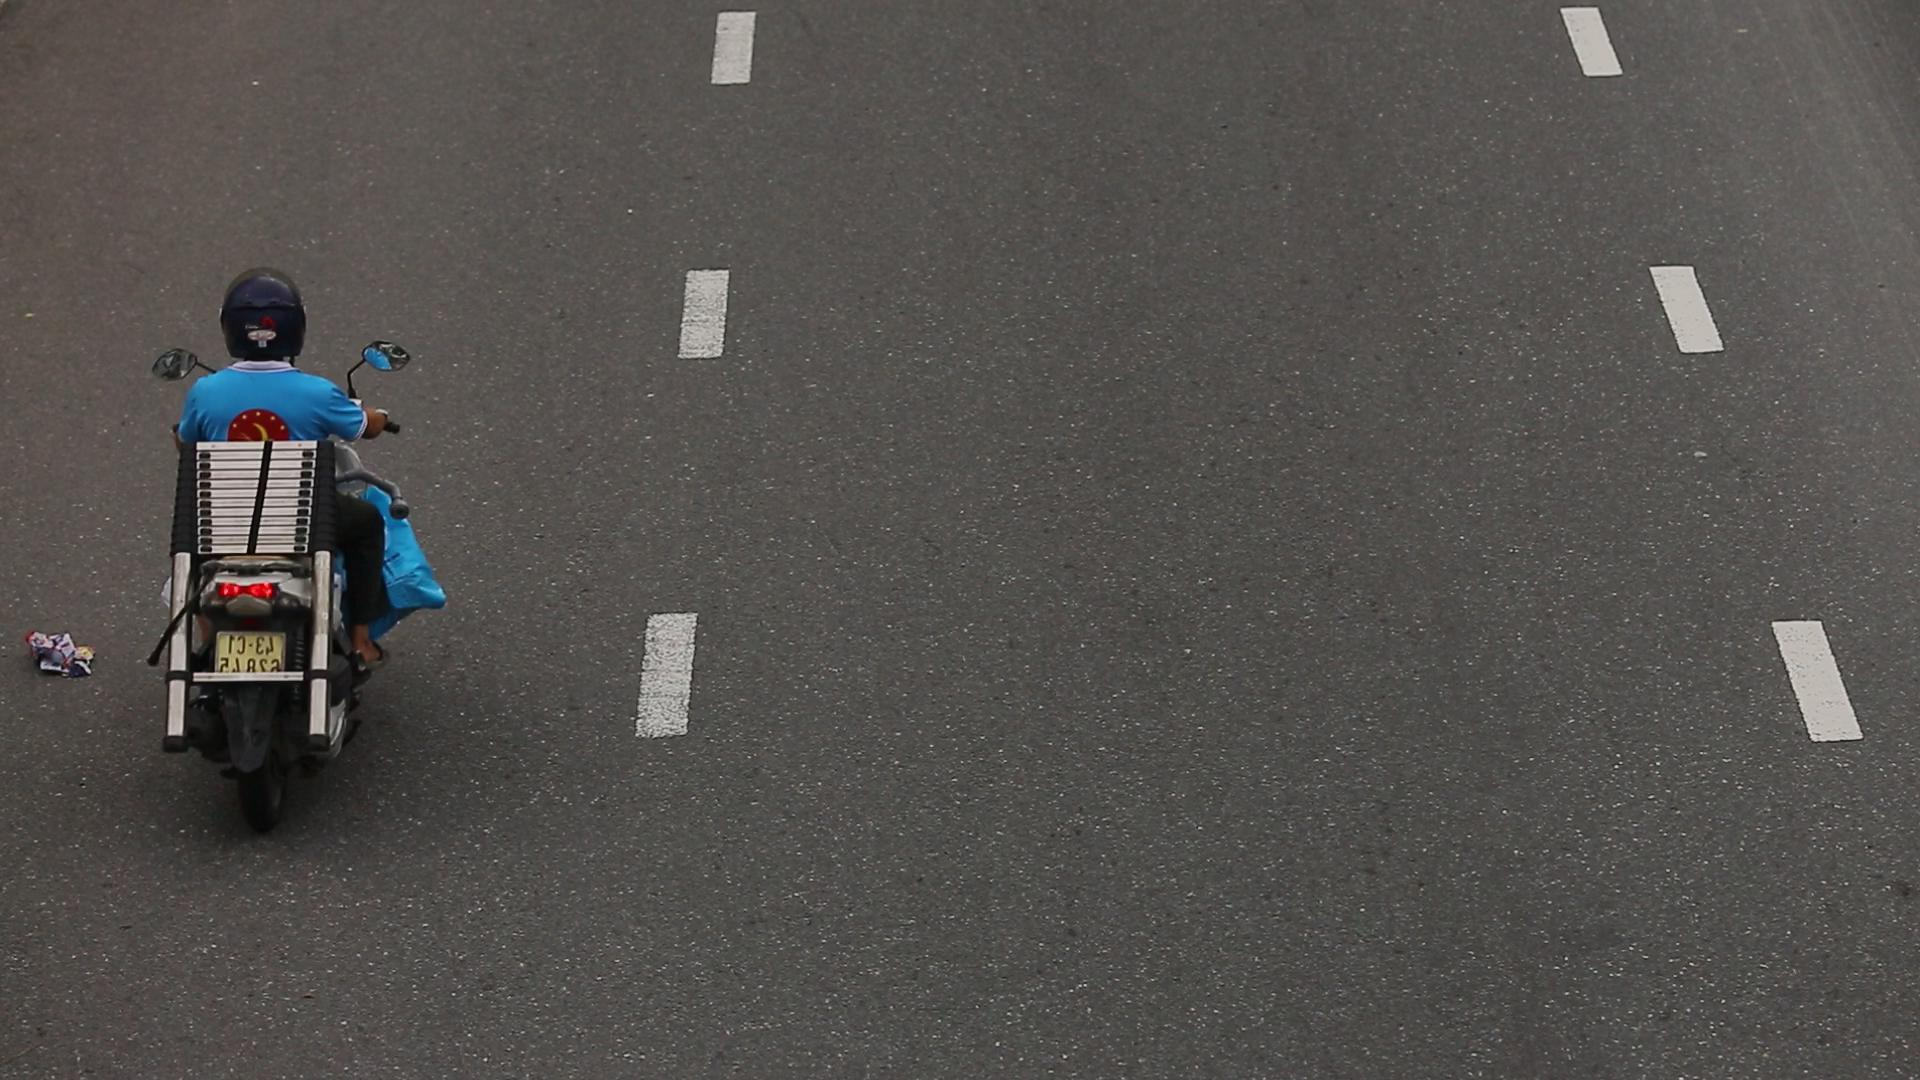motobike: (135, 252, 440, 839)
